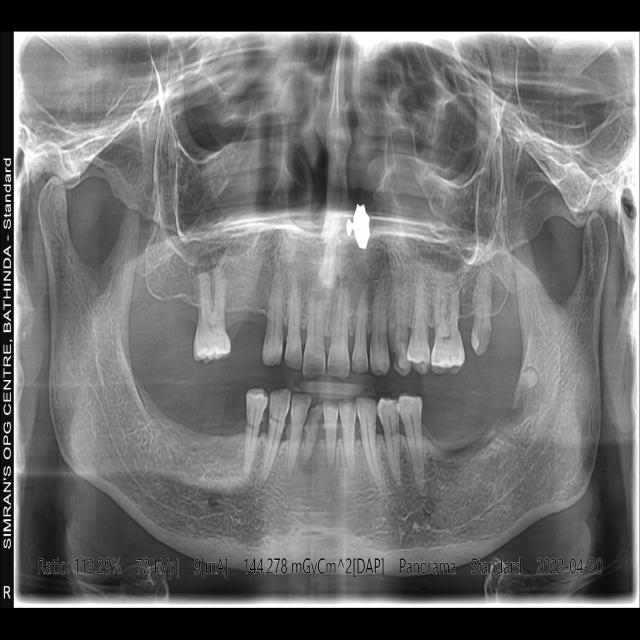Caries: (476, 325, 491, 356)
